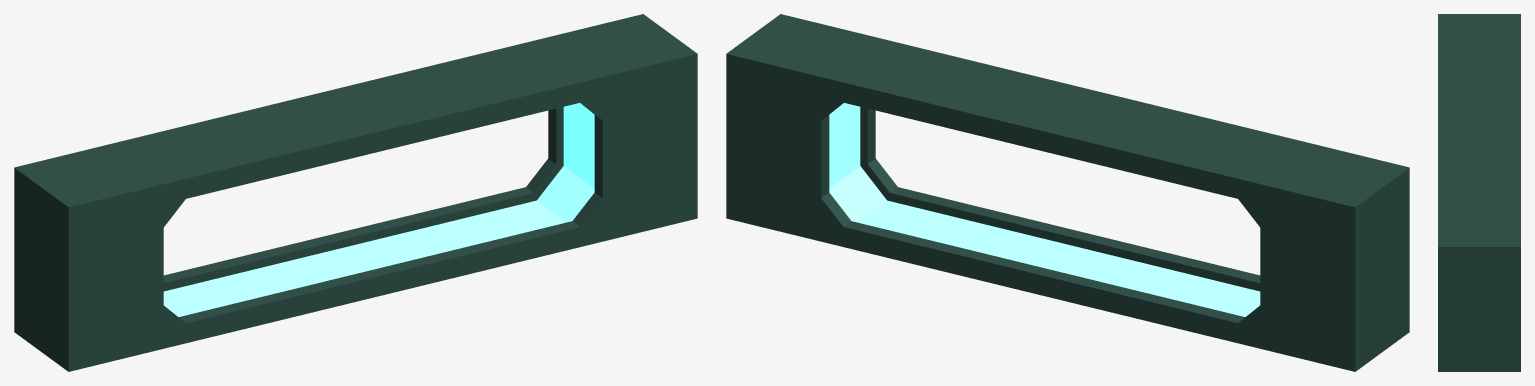
File: W2_WallWindow1A_2m_Top.fbx
The picture shows the model from 3 angles, left to right: view 1: azimuth 30°, elevation 25°; view 2: azimuth 150°, elevation 25°; view 3: azimuth 270°, elevation 25°; orthographic projection. The views are drawn at different scales.
Visible parts, largest first — view 1: W2_WallWindow1A_2m_Top.001; view 2: W2_WallWindow1A_2m_Top.001; view 3: W2_WallWindow1A_2m_Top.001.
Part boxes in pixels (x1,y1,x2,y2): W2_WallWindow1A_2m_Top.001: (14,14,697,371); W2_WallWindow1A_2m_Top.001: (726,14,1409,371); W2_WallWindow1A_2m_Top.001: (1438,14,1520,371).
Size of the model in its own units: 2 by 0.5 by 0.3.
